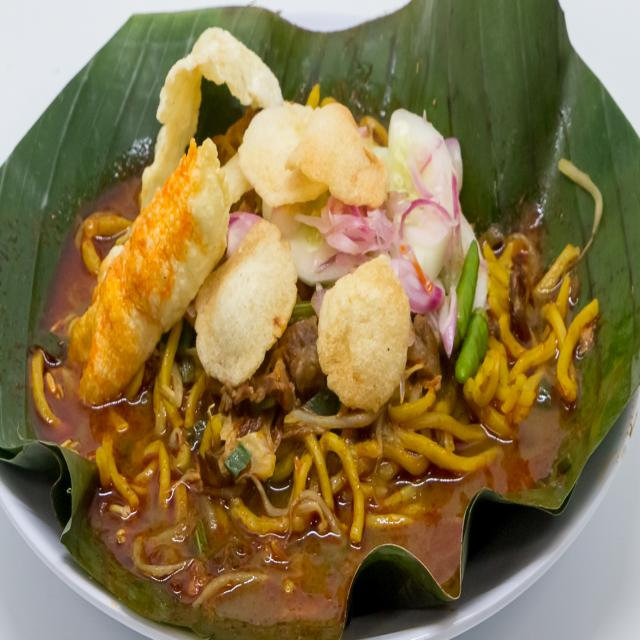Mie-Aceh: (30, 14, 603, 602)
